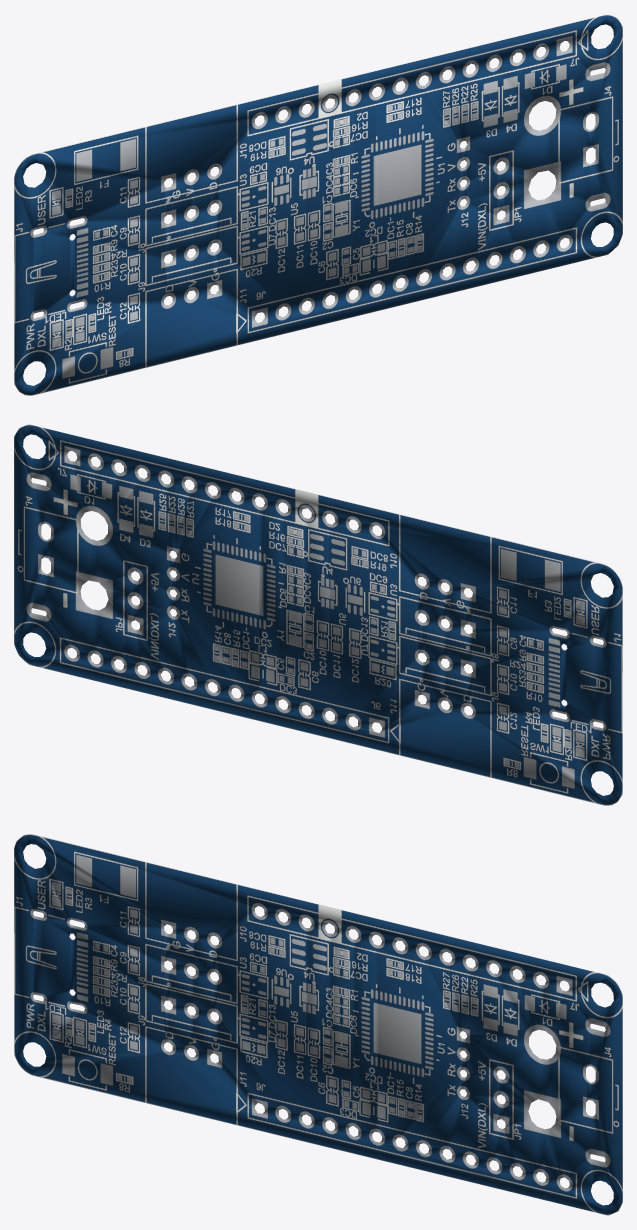
File: link0_openrb_top.obj
3 renders of one model, top to bottom at view 1: azimuth 30°, elevation 25°; view 2: azimuth 150°, elevation 25°; view 3: azimuth 330°, elevation 25°, orthographic.
Bounding box in the file's own units: 0.066 × 0.025 × 1e-05.
Materials: 1 (1 with a texture image).
